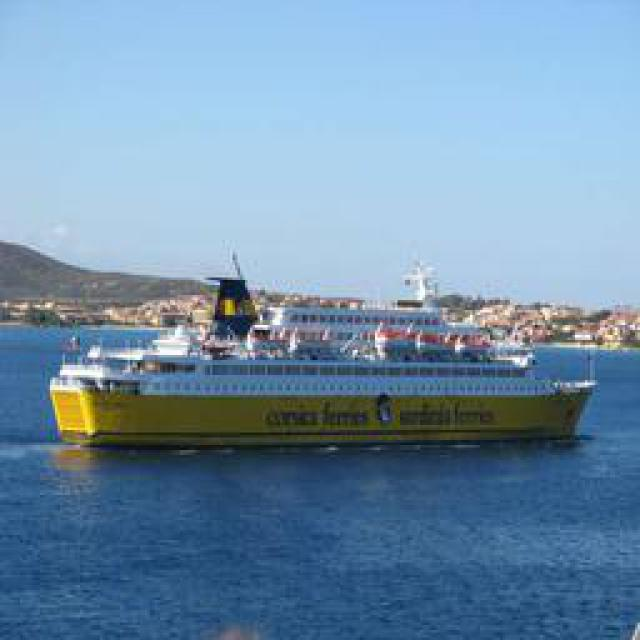Ship: (42, 256, 600, 449)
